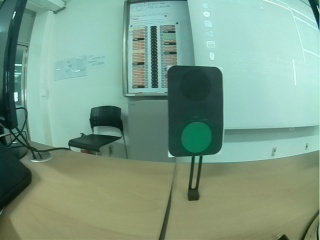green_light: (171, 67, 221, 158)
